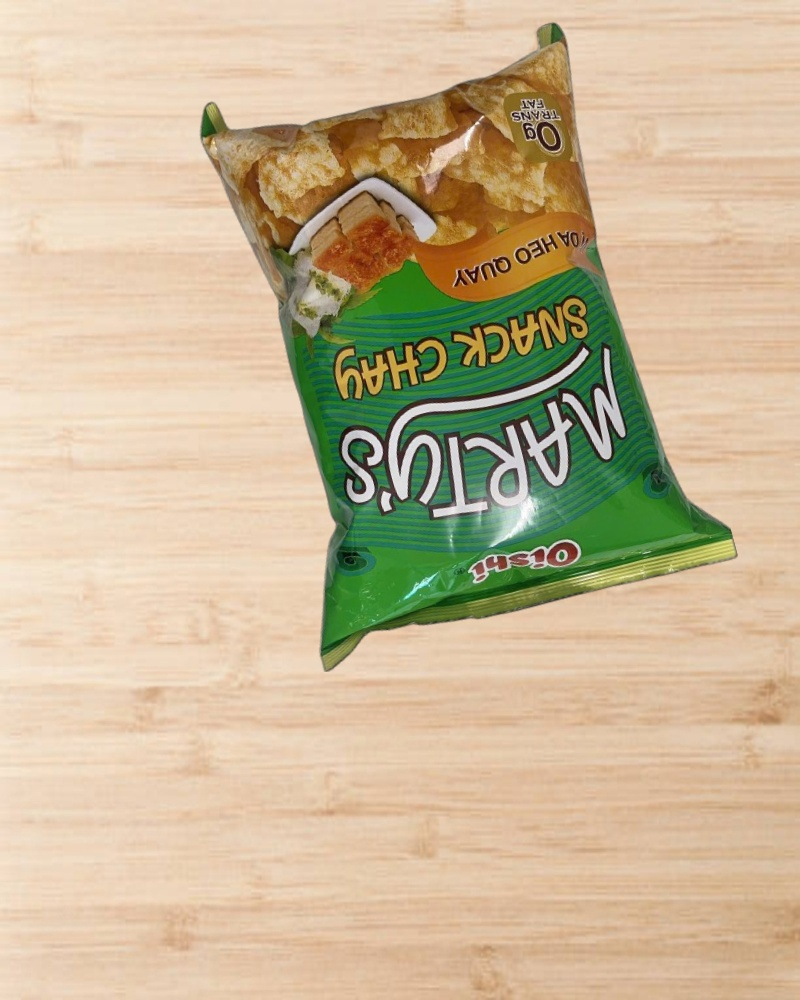Snack chay: (196, 3, 739, 667)
